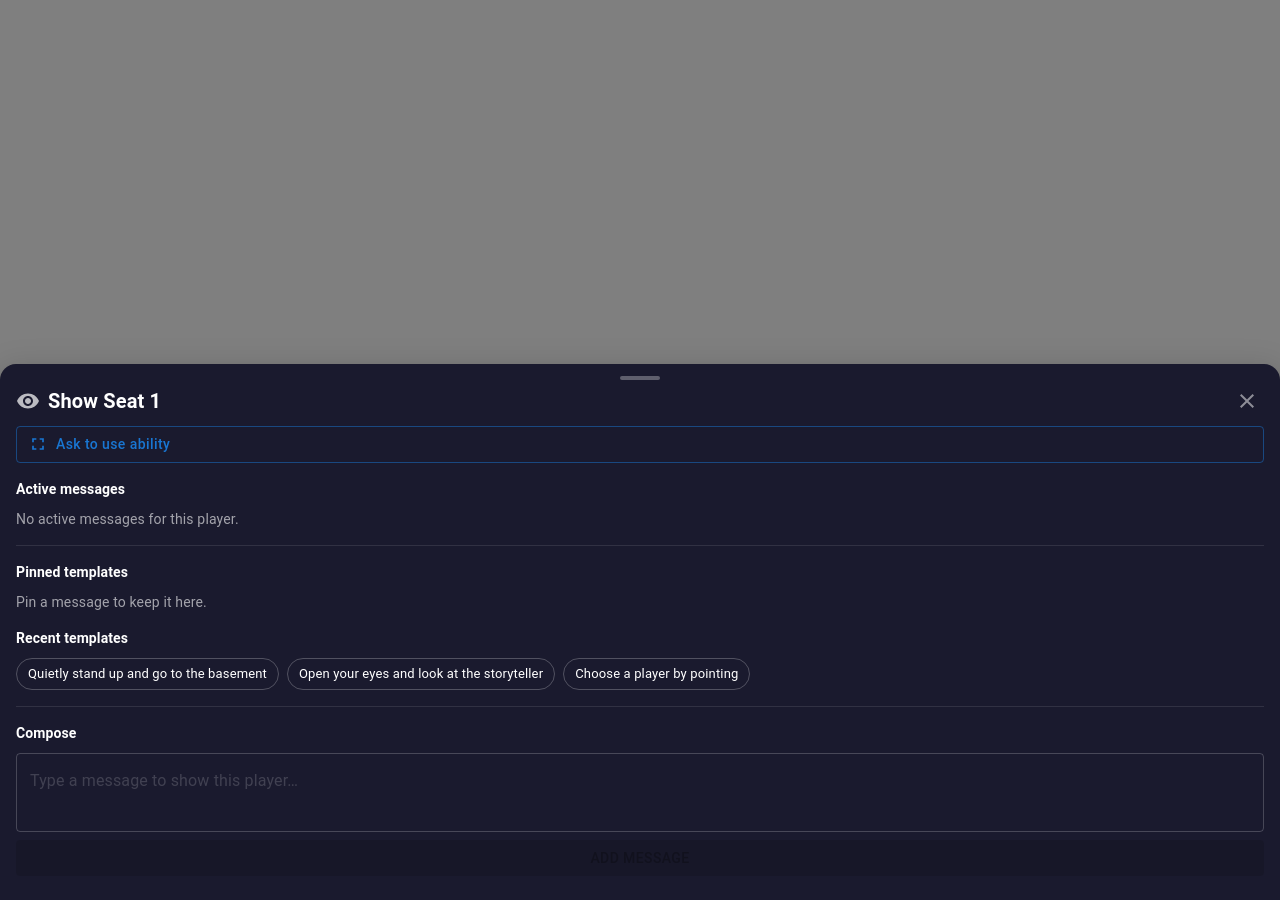
it: PlayerShowDrawer › shows a once-per-game ability prompt when the character is flagged
The image size is (1280, 900).
Click the button with test id "show-once-per-game-prompt-btn" at (113, 444), box x1=16 y1=426 x2=1264 y2=463
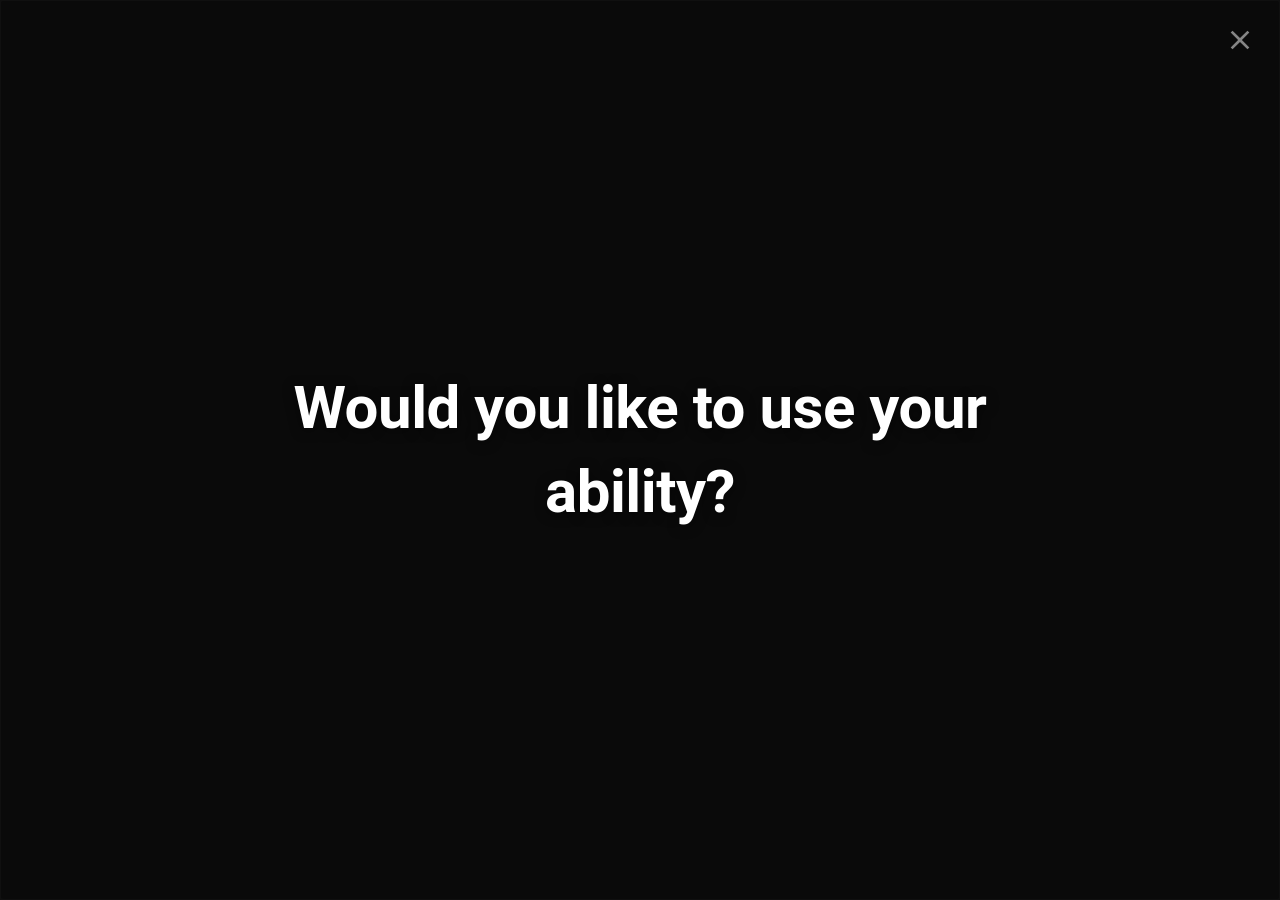
Result: the heading with test id "player-show-message" reads "Would you like to use your ability?" at x1=294 y1=372 x2=986 y2=527
